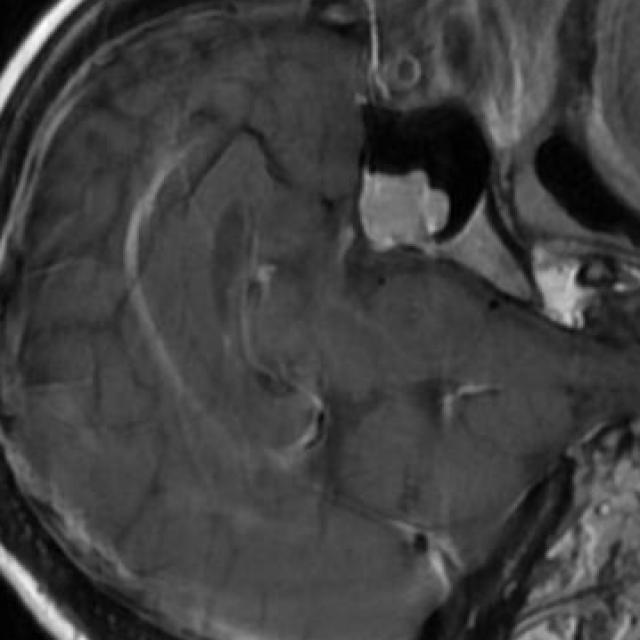pituitary: (358, 171, 447, 246)
